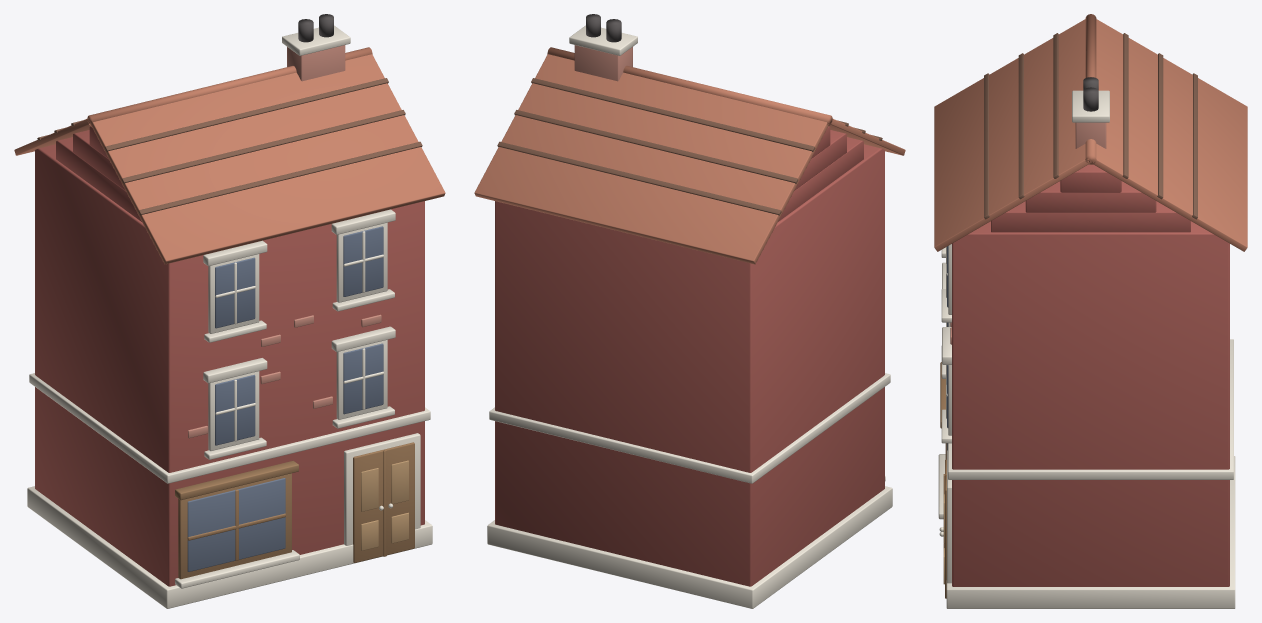
Rendered from edificio_05.glb.
3 views of the same model, side by side, from view 1: azimuth 30°, elevation 25°; view 2: azimuth 150°, elevation 25°; view 3: azimuth 270°, elevation 25° (orthographic). The views are drawn at different scales.
Visible parts, largest first — view 1: corpo, falda_fronte, zoccolo, vetrina_vetro_C, fascia_pt, fin_p1_0_vetro, fin_p2_1_vetro, fin_p2_0_vetro, fin_p1_1_vetro, vetrina_cornice_C, porta_anta_L, porta_cornice (+22 smaller); view 2: corpo, falda_retro, zoccolo, fascia_pt, colmo, listello_retro_0, listello_retro_2, listello_retro_1, sottotetto_1, comignolo_fusto, comignolo_cappello, sottotetto_2 (+1 smaller); view 3: corpo, falda_fronte, falda_retro, zoccolo, sottotetto_1, fascia_pt, sottotetto_2, sottotetto_3, colmo, comignolo_cappello, listello_fronte_1, listello_fronte_2 (+6 smaller).
Part boxes in pixels (x1,y1,x2,y2): corpo: (35, 144, 424, 586); falda_fronte: (90, 54, 445, 264); zoccolo: (27, 486, 432, 608); vetrina_vetro_C: (187, 478, 285, 571); fascia_pt: (29, 373, 430, 483); fin_p1_0_vetro: (215, 374, 255, 445); fin_p2_1_vetro: (343, 226, 383, 296); fin_p2_0_vetro: (215, 257, 255, 328); fin_p1_1_vetro: (343, 343, 383, 414); vetrina_cornice_C: (178, 473, 291, 579); porta_anta_L: (353, 450, 383, 562); porta_cornice: (344, 433, 420, 545); corpo: (495, 144, 884, 586); falda_retro: (474, 54, 829, 264); zoccolo: (487, 486, 892, 608); fascia_pt: (489, 373, 890, 483); colmo: (547, 47, 832, 125); listello_retro_0: (497, 141, 781, 215); listello_retro_2: (531, 78, 815, 151); listello_retro_1: (514, 110, 798, 183); sottotetto_1: (778, 137, 863, 221); comignolo_fusto: (574, 45, 632, 81); comignolo_cappello: (569, 25, 637, 55); sottotetto_2: (794, 130, 846, 190); corpo: (952, 221, 1229, 586); falda_fronte: (934, 19, 1091, 251); falda_retro: (1091, 19, 1247, 251); zoccolo: (946, 456, 1235, 608); sottotetto_1: (991, 201, 1190, 232); fascia_pt: (948, 339, 1233, 479); sottotetto_2: (1025, 181, 1156, 212); sottotetto_3: (1060, 164, 1121, 192); colmo: (1085, 14, 1096, 164); comignolo_cappello: (1072, 90, 1109, 122); listello_fronte_1: (1018, 53, 1024, 199); listello_fronte_2: (1053, 33, 1059, 178).
Bounding box in the file's own units: 6.04 × 9.94 × 5.64.
